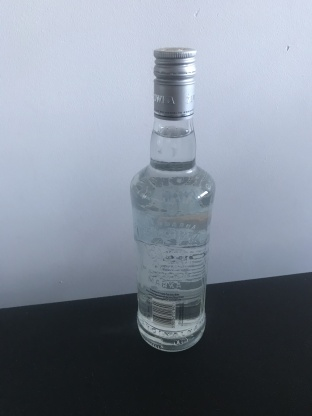nakretka: (151, 46, 199, 123)
